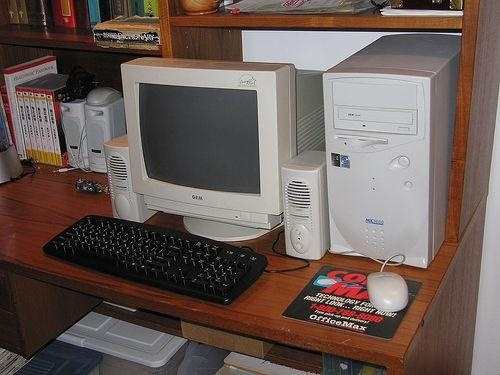tvmonitor: (121, 57, 323, 243)
